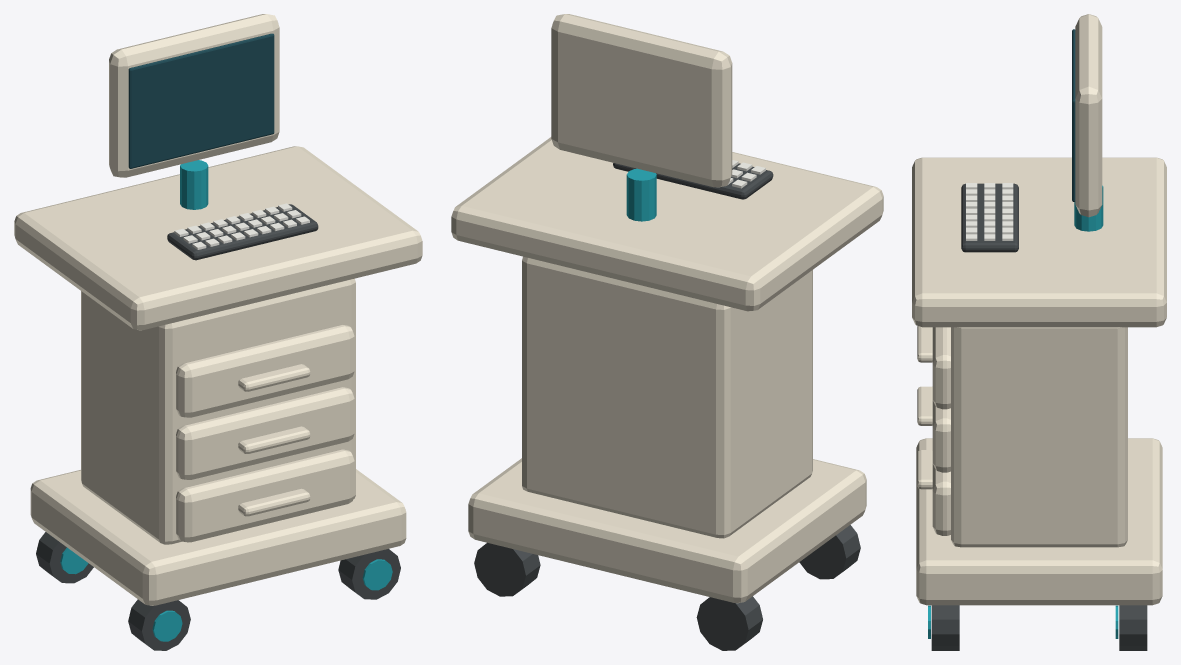
The model's file is workstation_standard.glb.
3 renders of one model, left to right at view 1: azimuth 30°, elevation 25°; view 2: azimuth 150°, elevation 25°; view 3: azimuth 270°, elevation 25°, orthographic. The views are drawn at different scales.
Parts seen in each view (by area): view 1: STATIC_cream.006, STATIC_screen.004, MOVING_drawer.001, MOVING_drawer.003, MOVING_drawer.002, STATIC_rubber.010, STATIC_teal.008, STATIC_white.008; view 2: STATIC_cream.006, STATIC_rubber.010, STATIC_teal.008; view 3: STATIC_cream.006, STATIC_rubber.010, STATIC_white.008, MOVING_drawer.003, MOVING_drawer.002, MOVING_drawer.001, STATIC_teal.008, STATIC_screen.004.
Boxes of the visible parts, box(x1,y1,x2,y2) form: STATIC_cream.006: box(14, 14, 422, 605); STATIC_screen.004: box(128, 33, 274, 168); MOVING_drawer.001: box(176, 449, 354, 542); MOVING_drawer.003: box(176, 324, 354, 417); MOVING_drawer.002: box(176, 387, 354, 480); STATIC_rubber.010: box(36, 204, 400, 650); STATIC_teal.008: box(60, 160, 392, 641); STATIC_white.008: box(174, 203, 309, 249); STATIC_cream.006: box(451, 14, 883, 603); STATIC_rubber.010: box(474, 163, 860, 650); STATIC_teal.008: box(626, 168, 656, 221); STATIC_cream.006: box(912, 14, 1166, 605); STATIC_rubber.010: box(931, 183, 1147, 650); STATIC_white.008: box(966, 183, 1013, 240); MOVING_drawer.003: box(932, 327, 950, 409); MOVING_drawer.002: box(932, 400, 950, 472); MOVING_drawer.001: box(932, 464, 950, 535); STATIC_teal.008: box(928, 185, 1118, 638); STATIC_screen.004: box(1072, 29, 1075, 201).
Bounding box in the file's own units: 0.83 × 1.46 × 0.62.
